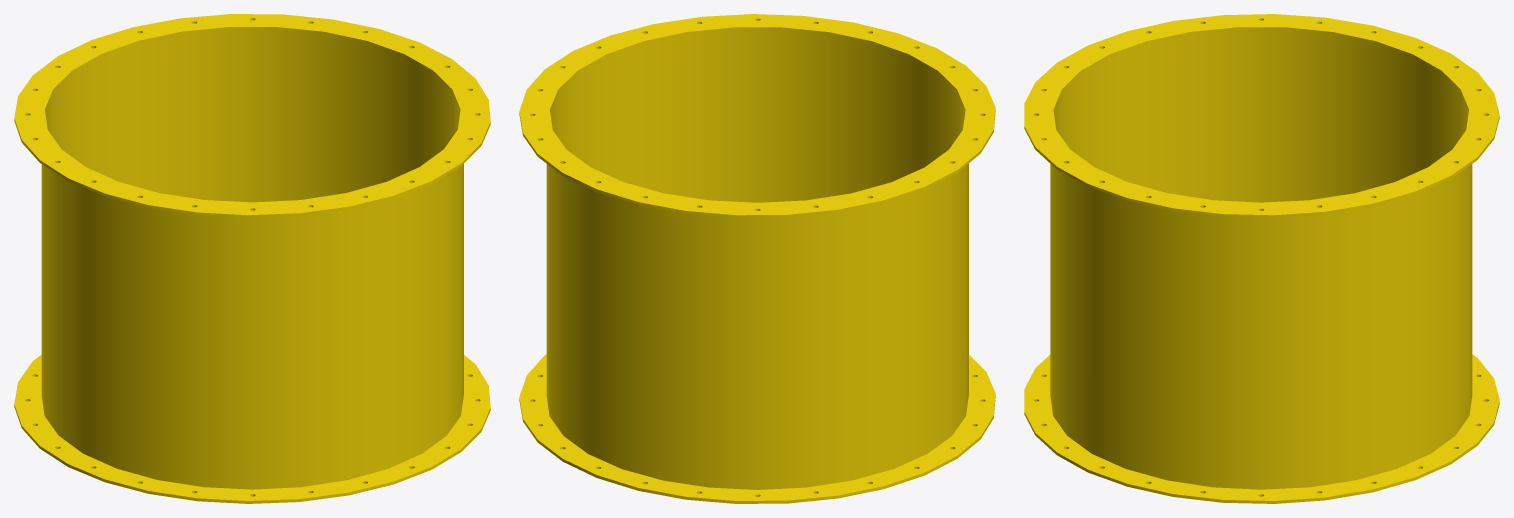
The model's file is Straight-59.fbx.
The picture shows the model from 3 angles, left to right: view 1: azimuth 30°, elevation 25°; view 2: azimuth 150°, elevation 25°; view 3: azimuth 270°, elevation 25°; orthographic projection.
Parts seen in each view (by area): view 1: lige-59-obj; view 2: lige-59-obj; view 3: lige-59-obj.
Boxes of the visible parts, left/top/right/bottom form: lige-59-obj: left=14, top=14, right=490, bottom=503; lige-59-obj: left=519, top=14, right=995, bottom=503; lige-59-obj: left=1024, top=14, right=1499, bottom=503.
Size of the model in its own units: 87.87 by 58.76 by 87.74.
